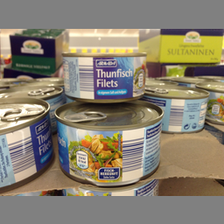fish: (53, 102, 165, 185), (1, 96, 51, 192), (62, 52, 147, 102), (145, 84, 210, 135)
